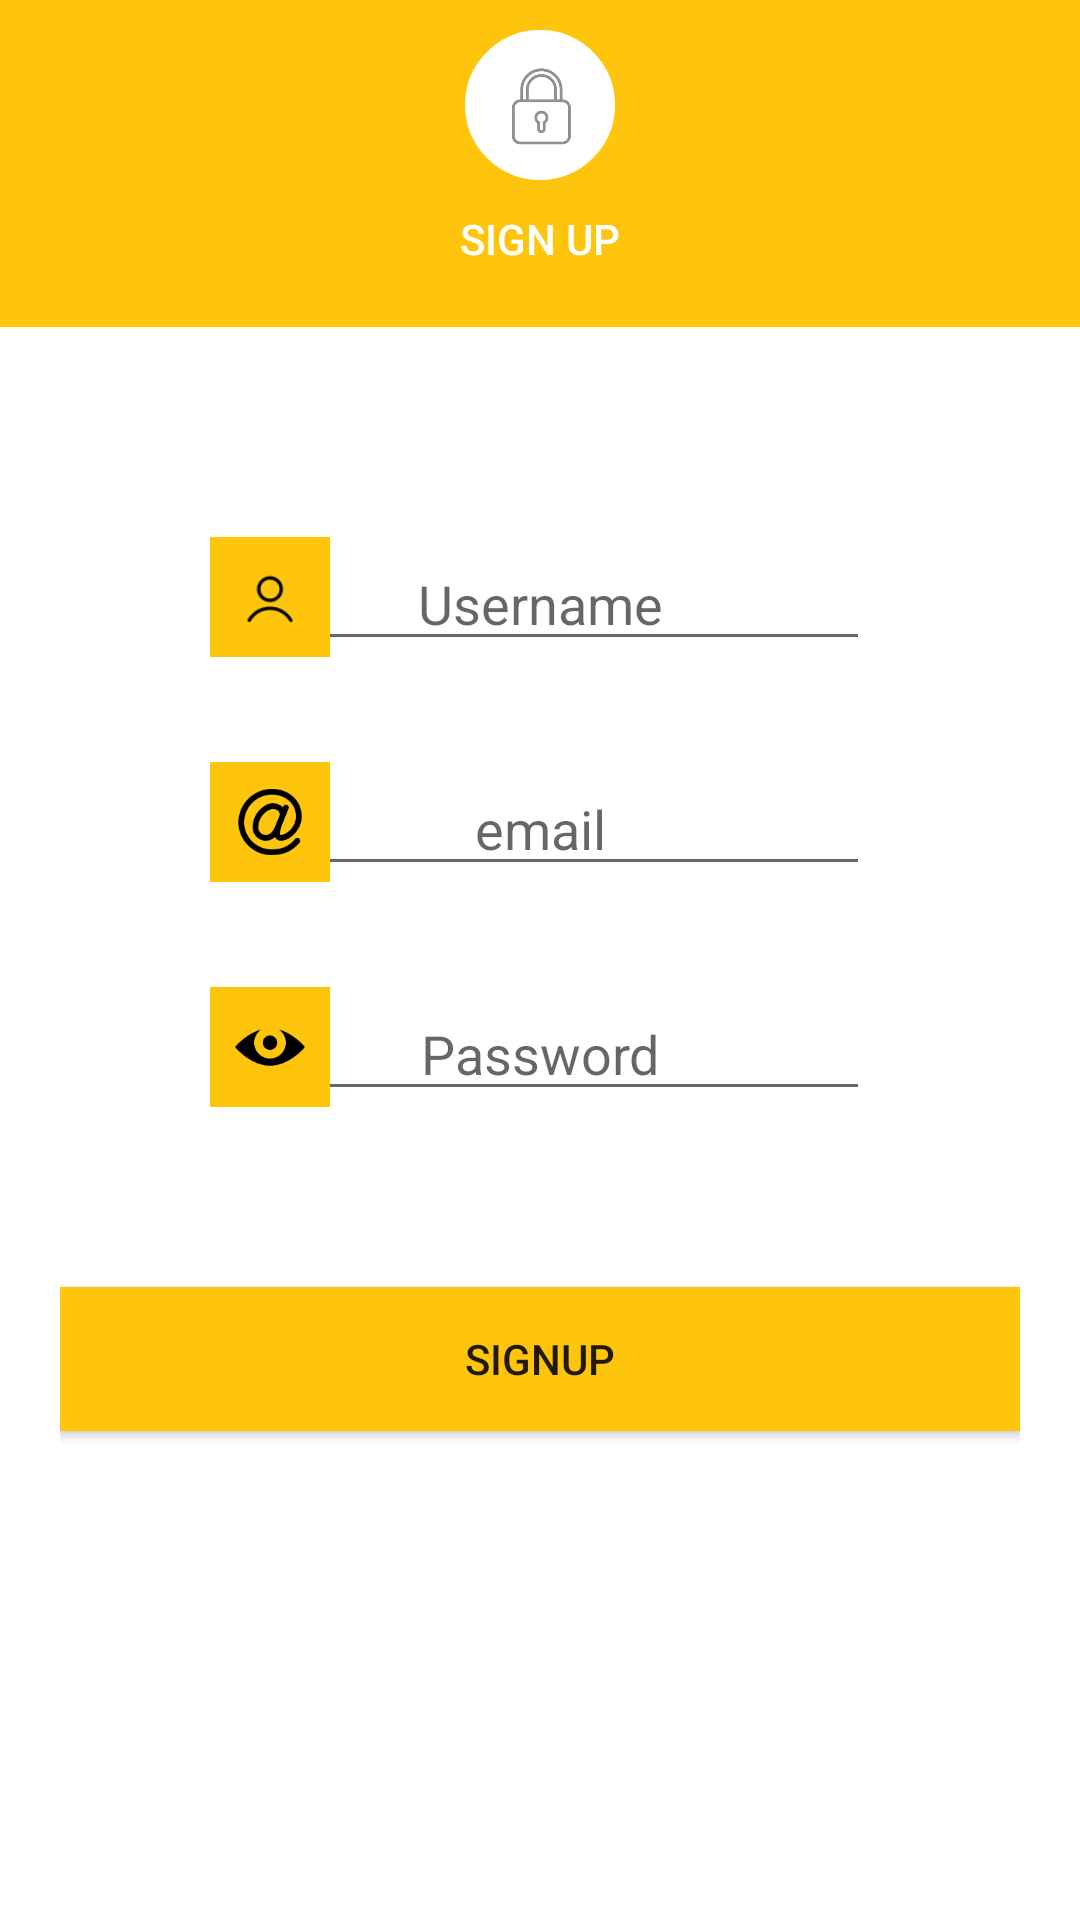

Point at icon controls on the screen. Image size 1080×1920, points as (x=x, y=y).
lock: (x=540, y=105)
